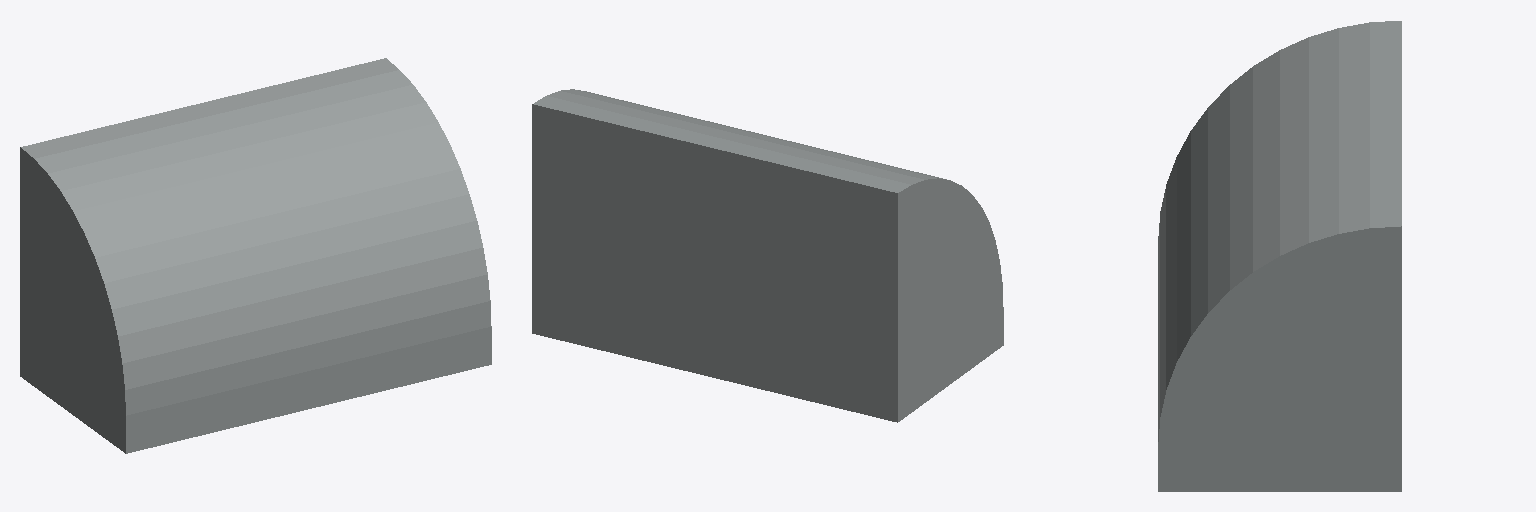
robot.urdf — 37352__light_bluish_gray:
<?xml version="1.0"?>
<robot name="37352__light_bluish_gray">
  <link name="37352__light_bluish_gray">
    <inertial>
      <origin xyz="-0.000000 0.000486 -0.005462" rpy="0 0 0"/>
      <mass value="0.001057"/>
      <inertia ixx="1.177373238e-08" ixy="1.558971954e-25" ixz="1.405592021e-24" iyy="2.935966530e-08" iyz="-1.564285637e-09" izz="2.751637272e-08"/>
    </inertial>
    <visual>
      <geometry>
        <mesh filename="../meshes/visual/37352.obj" scale="1 1 1"/>
      </geometry>
      <material name="37352__light_bluish_gray_color">
        <color rgba="0.630 0.650 0.650 1.000"/>
      </material>
    </visual>
    <collision>
      <geometry>
        <mesh filename="../meshes/collision/37352_hull.obj" scale="1 1 1"/>
      </geometry>
    </collision>
  </link>
</robot>

--- Render facts (derived) ---
The picture shows the robot from 3 angles, left to right: view 1: azimuth 30°, elevation 25°; view 2: azimuth 150°, elevation 25°; view 3: azimuth 270°, elevation 25°; orthographic projection.
Model 37352__light_bluish_gray with 1 links and 0 joints (none), rooted at 37352__light_bluish_gray, posed all joints at 0.
Visible links, largest first — view 1: 37352__light_bluish_gray; view 2: 37352__light_bluish_gray; view 3: 37352__light_bluish_gray.
Link boxes in pixels (<box>): 37352__light_bluish_gray: <box>20,58,491,453</box>; 37352__light_bluish_gray: <box>532,89,1003,422</box>; 37352__light_bluish_gray: <box>1158,21,1401,491</box>.
Bounding box of the posed robot: 0.016 × 0.008 × 0.0096 m (x, y, z).
1 mesh visuals loaded from 1 distinct referenced files (1 OBJ).
